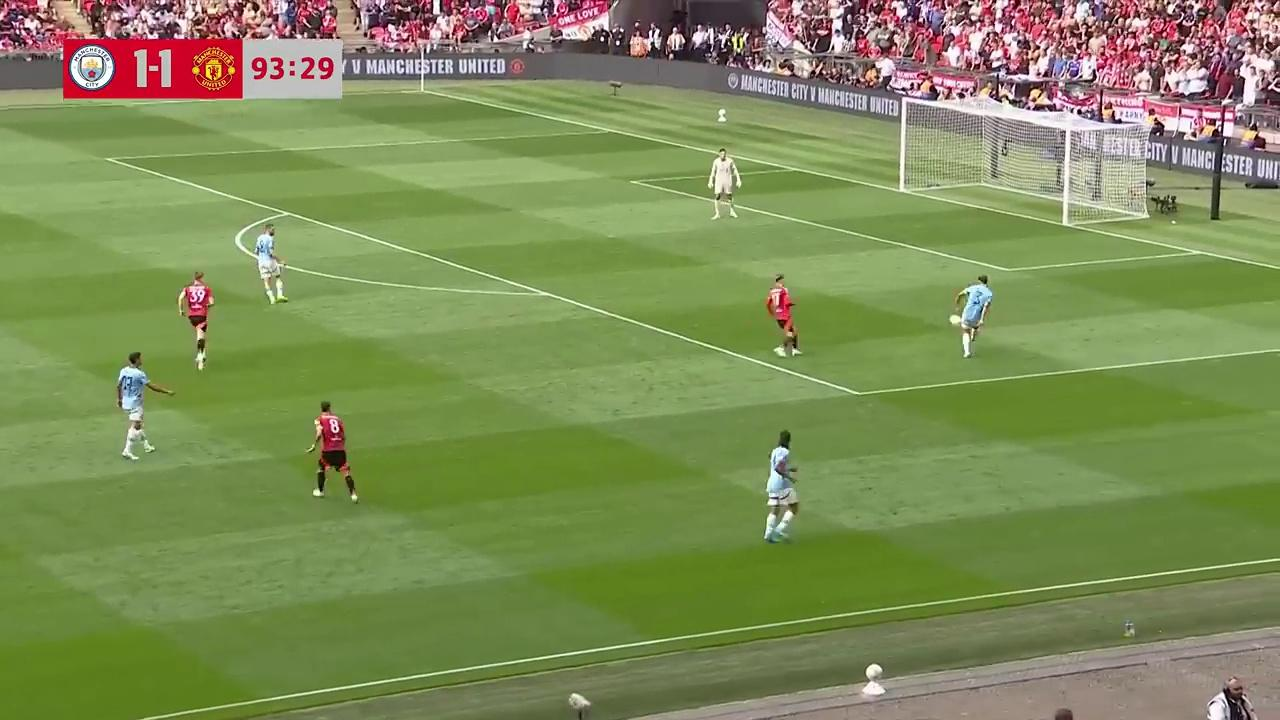ball: (948, 311, 959, 326)
player: (117, 351, 174, 461), (307, 401, 360, 501), (762, 430, 799, 544), (177, 270, 214, 370), (956, 275, 993, 358), (765, 275, 801, 356), (255, 221, 286, 304), (710, 145, 744, 219)
